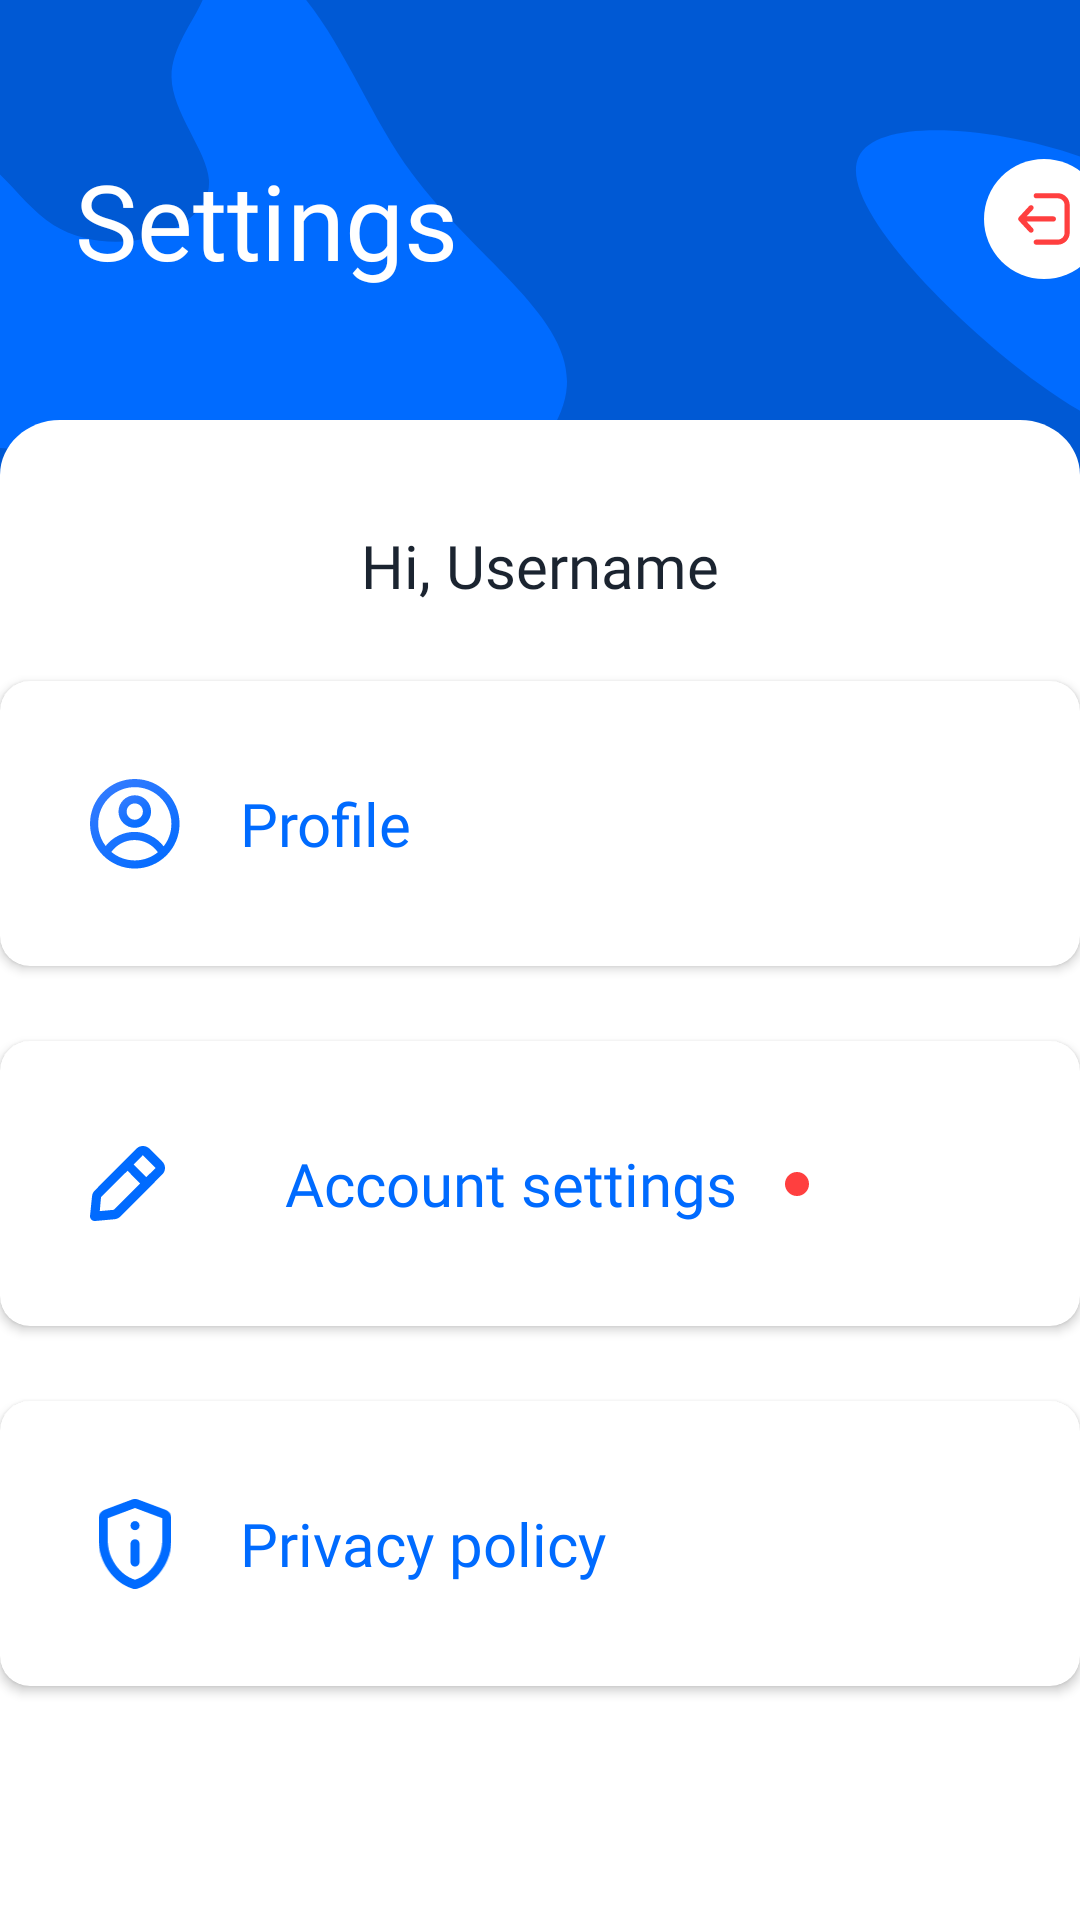

Where to tap for icons on this 1080 x 1920 app screen, as (x,y):
edit: (127,1183)
